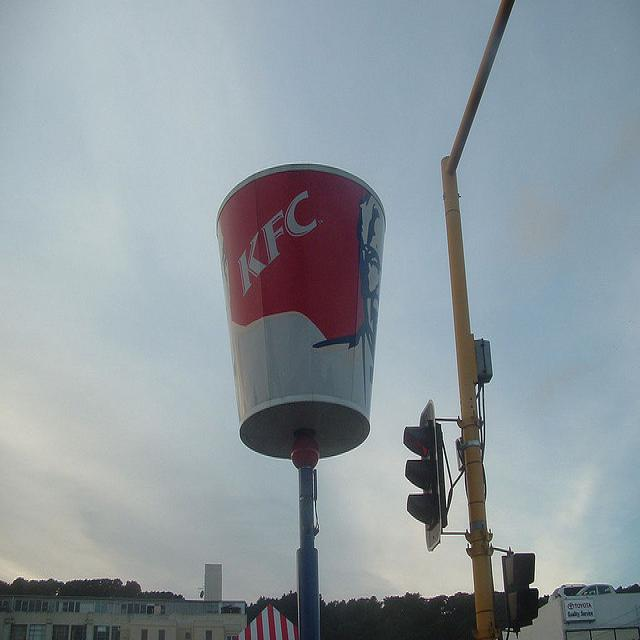Vehicle: (576, 584, 616, 596)
